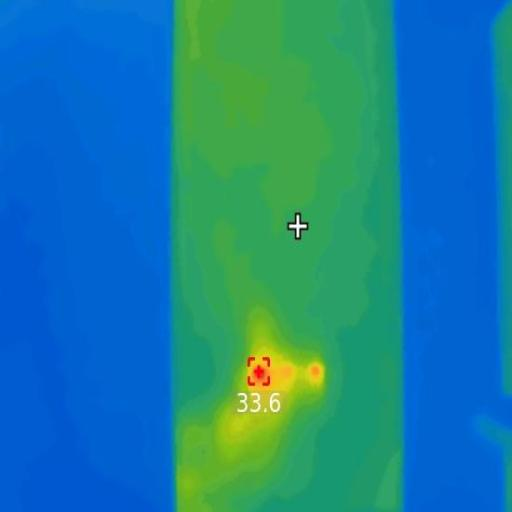hotspot: (249, 358, 272, 394), (307, 364, 322, 378)
